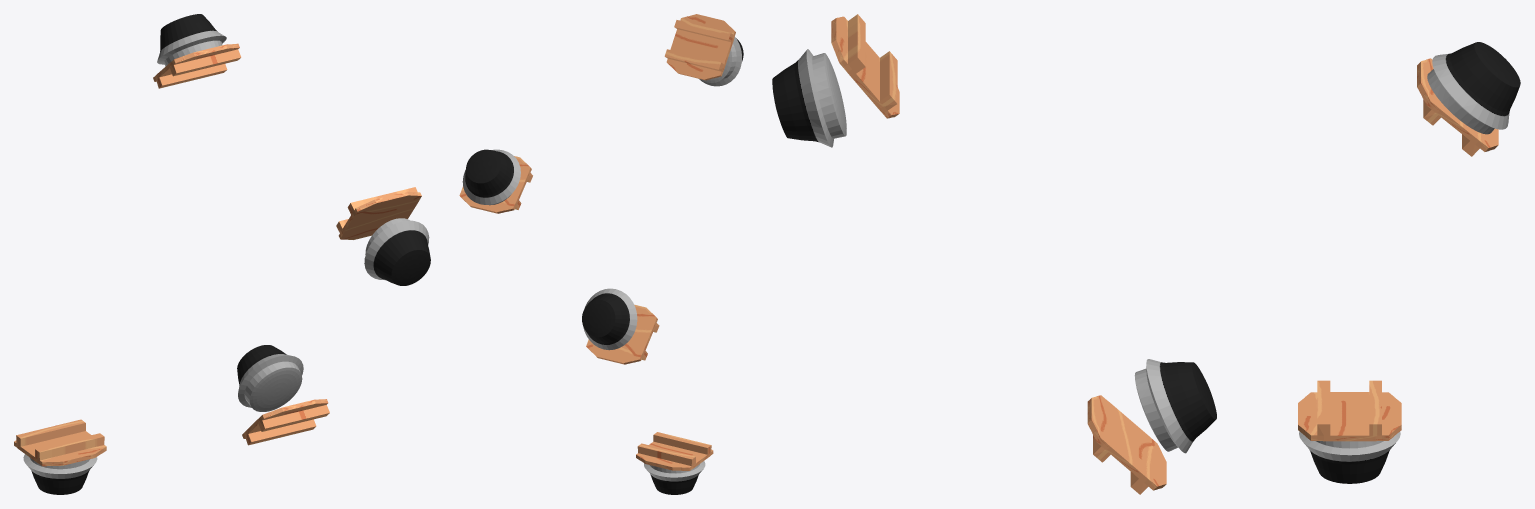
File: kama.obj
3 renders of one model, left to right at view 1: azimuth 30°, elevation 25°; view 2: azimuth 150°, elevation 25°; view 3: azimuth 270°, elevation 25°, orthographic. The views are drawn at different scales.
Visible parts, largest first — view 1: Cube.002, Cube.003, 立方体, 立方体.002, 立方体.003, Cube.001, 立方体.001, Cube; view 2: 立方体.002, Cube.003, Cube.001, 立方体, 立方体.003, Cube, 立方体.001, Cube.002; view 3: Cube.001, Cube.003, Cube.002, 立方体, 立方体.003, 立方体.002, Cube, 立方体.001.
Boxes of the visible parts, x1,y1,x2,y2 form: Cube.002: (364, 218, 430, 285); Cube.003: (237, 345, 303, 411); 立方体: (14, 419, 106, 466); 立方体.002: (336, 187, 421, 239); 立方体.003: (242, 399, 329, 445); Cube.001: (157, 14, 226, 66); 立方体.001: (153, 43, 241, 88); Cube: (23, 454, 97, 494); 立方体.002: (664, 14, 735, 80); Cube.003: (582, 288, 637, 350); Cube.001: (462, 149, 520, 205); 立方体: (636, 432, 713, 470); 立方体.003: (586, 304, 659, 364); Cube: (644, 461, 705, 494); 立方体.001: (459, 156, 532, 213); Cube.002: (699, 36, 743, 86); Cube.001: (1427, 42, 1520, 134); Cube.003: (1134, 359, 1216, 453); Cube.002: (772, 49, 846, 147); 立方体: (1298, 380, 1401, 441); 立方体.003: (1087, 395, 1166, 494); 立方体.002: (831, 14, 899, 118); Cube: (1299, 431, 1400, 483); 立方体.001: (1417, 58, 1498, 156).
Size of the model in its own units: 33.8 by 53.26 by 66.22.
